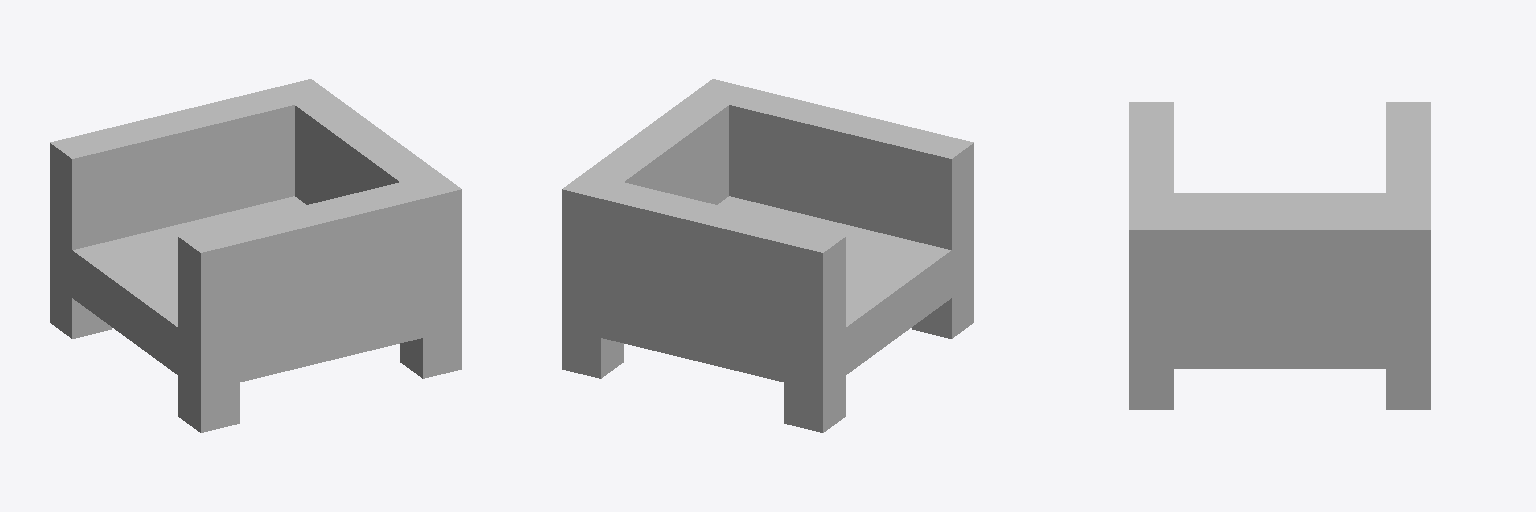
File: block_chair_01.obj
The picture shows the model from 3 angles: view 1: azimuth 30°, elevation 25°; view 2: azimuth 150°, elevation 25°; view 3: azimuth 270°, elevation 25°; orthographic projection.
Visible parts, largest first — view 1: Box001; view 2: Box001; view 3: Box001.
Boxes of the visible parts, box(x1,y1,x2,y2) form: Box001: box(50, 79, 461, 432); Box001: box(562, 79, 973, 432); Box001: box(1129, 102, 1430, 409).
Size of the model in its own units: 1 by 0.6582 by 1.